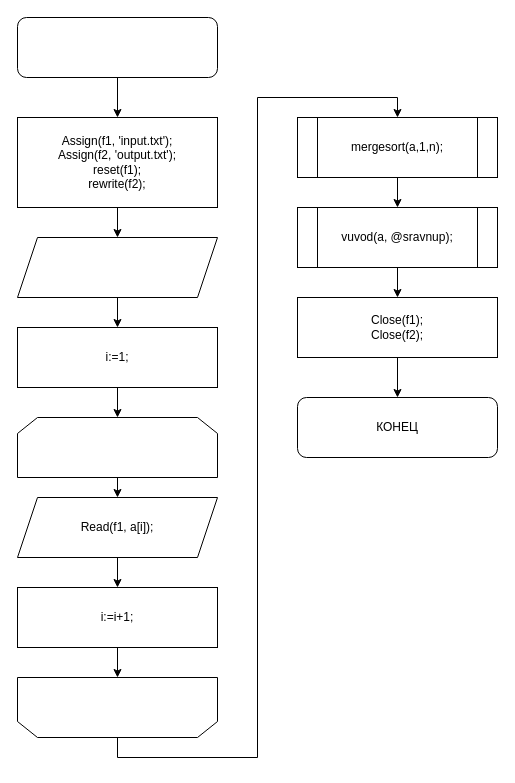
This 515x783 diagram has some shape labels left out. The shapes that lost their labels are listed below. From the top down, each one's box as (x1, y1, x2, y2) in pixels, then its label:
(16, 16, 218, 78): НАЧАЛО
(16, 236, 218, 298): Readln(f1,n);
(16, 416, 218, 478): C9
(16, 676, 218, 738): EOF(f1) C9
